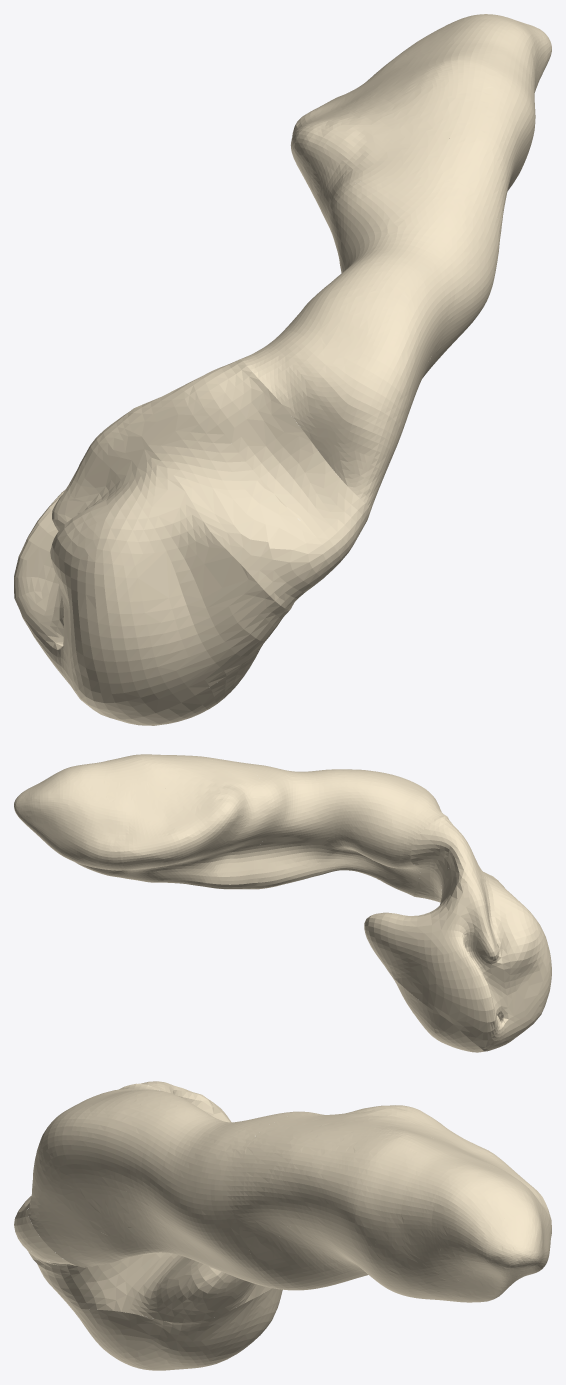
File: pancreas.glb
The picture shows the model from 3 angles, top to bottom: view 1: azimuth 30°, elevation 25°; view 2: azimuth 150°, elevation 25°; view 3: azimuth 270°, elevation 25°; orthographic projection. The views are drawn at different scales.
Visible parts, largest first — view 1: VH_M_head_of_pancreas, VH_M_body_of_pancreas, VH_M_tail_of_pancreas, VH_M_neck_of_pancreas, VH_M_uncinate_process_of_the_pancreas; view 2: VH_M_tail_of_pancreas, VH_M_head_of_pancreas, VH_M_body_of_pancreas, VH_M_neck_of_pancreas, VH_M_uncinate_process_of_the_pancreas; view 3: VH_M_tail_of_pancreas, VH_M_body_of_pancreas, VH_M_head_of_pancreas, VH_M_uncinate_process_of_the_pancreas, VH_M_neck_of_pancreas.
Boxes of the visible parts, <box> form: VH_M_head_of_pancreas: <box>14,388,333,719</box>; VH_M_body_of_pancreas: <box>241,177,500,515</box>; VH_M_tail_of_pancreas: <box>290,14,551,235</box>; VH_M_neck_of_pancreas: <box>178,359,369,569</box>; VH_M_uncinate_process_of_the_pancreas: <box>110,645,262,725</box>; VH_M_tail_of_pancreas: <box>14,754,271,889</box>; VH_M_head_of_pancreas: <box>364,843,551,1051</box>; VH_M_body_of_pancreas: <box>242,762,446,896</box>; VH_M_neck_of_pancreas: <box>410,816,467,902</box>; VH_M_uncinate_process_of_the_pancreas: <box>391,975,485,1052</box>; VH_M_tail_of_pancreas: <box>232,1105,551,1302</box>; VH_M_body_of_pancreas: <box>28,1083,299,1289</box>; VH_M_head_of_pancreas: <box>14,1086,271,1322</box>; VH_M_uncinate_process_of_the_pancreas: <box>70,1288,282,1370</box>; VH_M_neck_of_pancreas: <box>14,1081,180,1265</box>.
Size of the model in its own units: 0.1114 by 0.072 by 0.0836.
